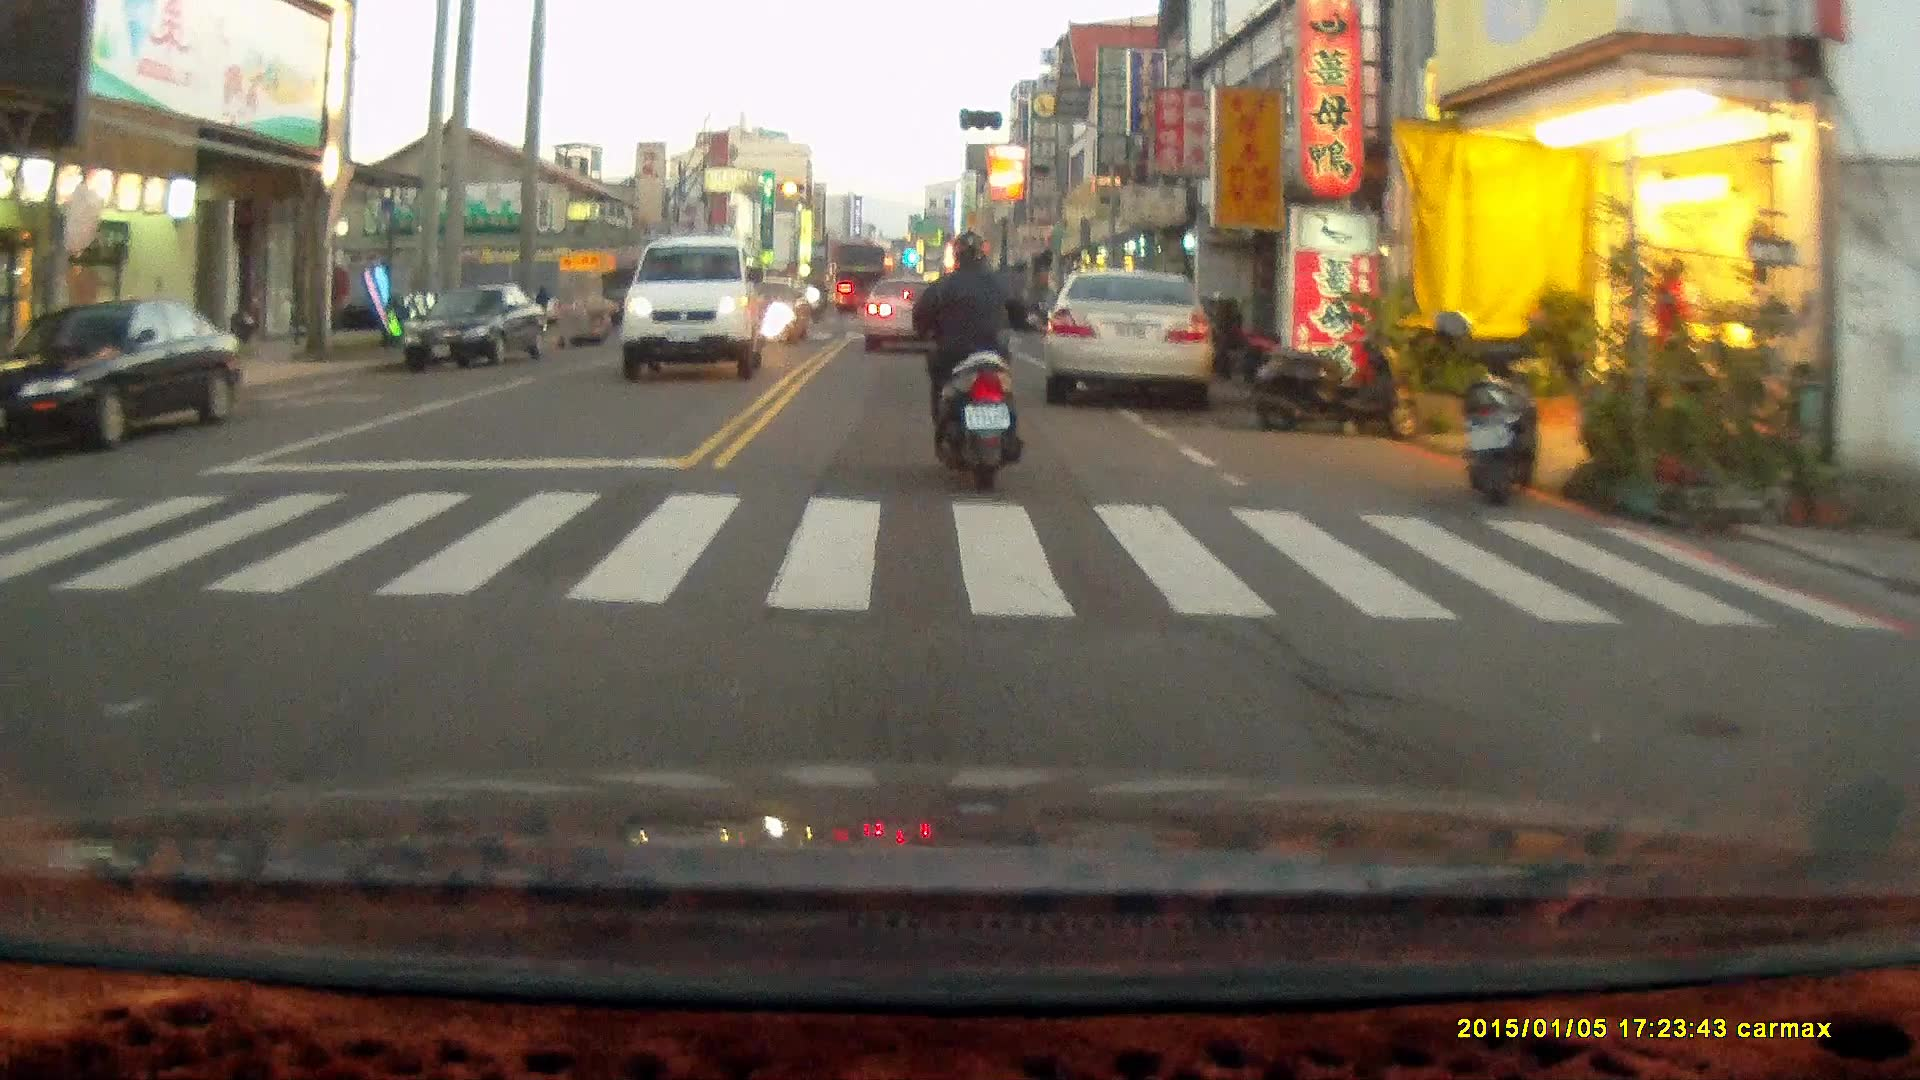pedestrian: (1653, 256, 1694, 399)
rider: (908, 230, 1032, 496)
vehicle: (2, 295, 240, 447), (1046, 268, 1216, 408), (623, 235, 765, 381), (404, 279, 546, 376), (861, 271, 960, 348)
